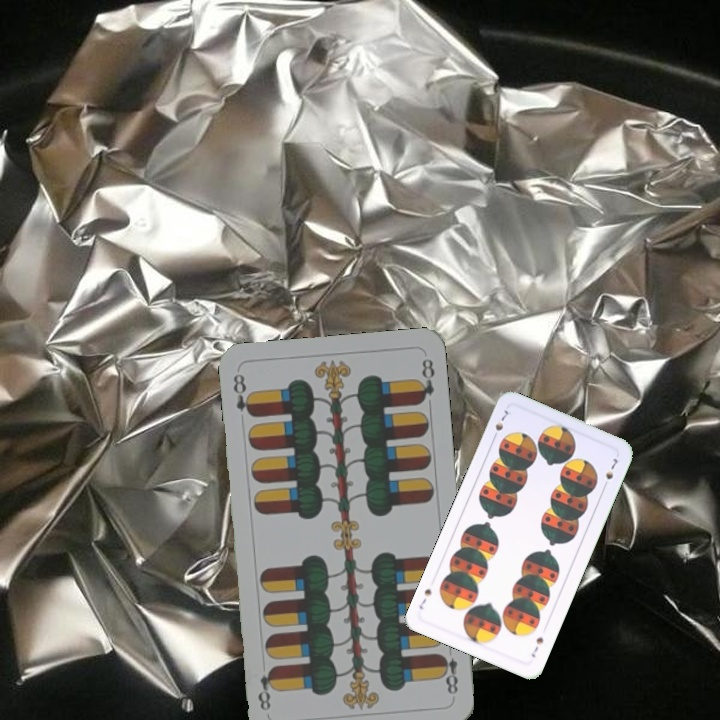E8: (229, 370, 256, 420), (436, 650, 460, 697)
S7: (488, 406, 511, 443), (527, 633, 546, 660)
